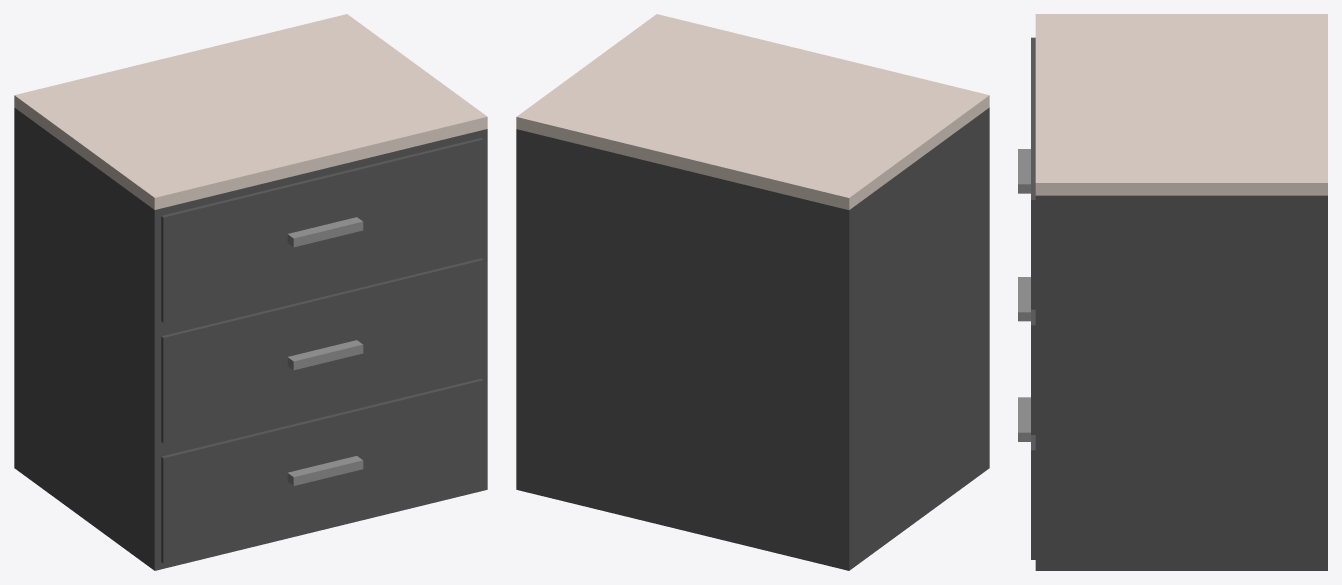
File: Kitchen_Cabinet_1.fbx
3 views of the same model, side by side, from view 1: azimuth 30°, elevation 25°; view 2: azimuth 150°, elevation 25°; view 3: azimuth 270°, elevation 25° (orthographic). The views are drawn at different scales.
Parts seen in each view (by area): view 1: Kitchen_Cabinet_1; view 2: Kitchen_Cabinet_1; view 3: Kitchen_Cabinet_1.
Part boxes in pixels (left/top/right/bottom): Kitchen_Cabinet_1: left=14, top=14, right=487, bottom=570; Kitchen_Cabinet_1: left=516, top=14, right=989, bottom=570; Kitchen_Cabinet_1: left=1018, top=14, right=1327, bottom=570.
Size of the model in its own units: 121 by 93.63 by 129.
